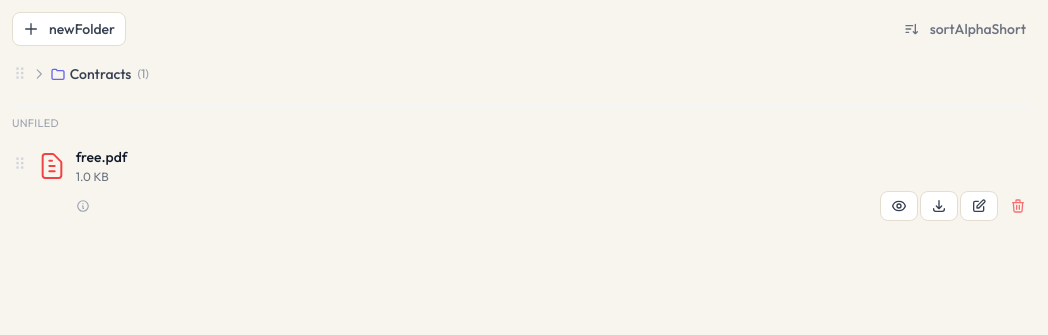
Test: AttachmentFolderView › clic sulla cartella ne rivela il contenuto
Click the text "Contracts" at (101,74), box [70,64,131,84]
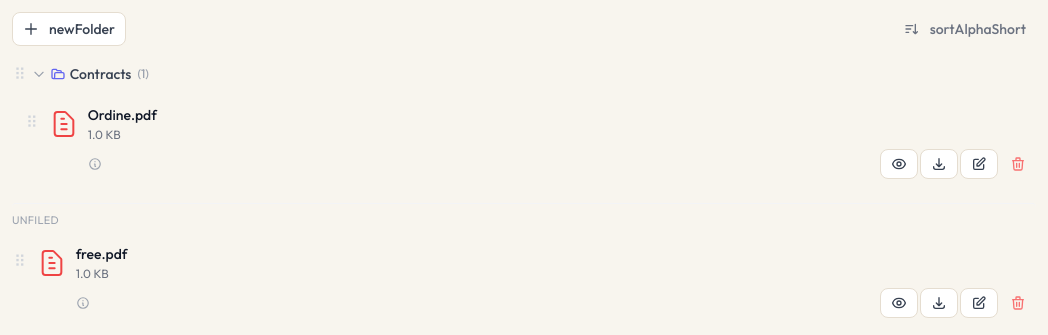
Check: the text "Ordine.pdf" is shown, box [88,106,157,124]
